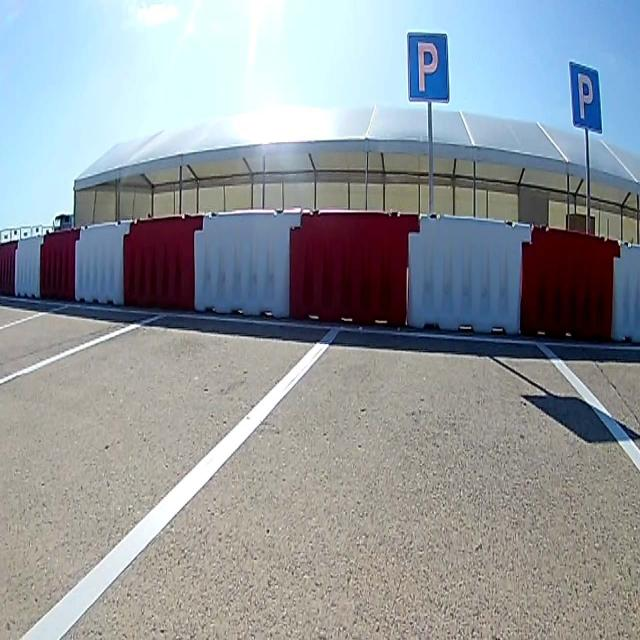park: (407, 32, 448, 104), (569, 62, 601, 130)
